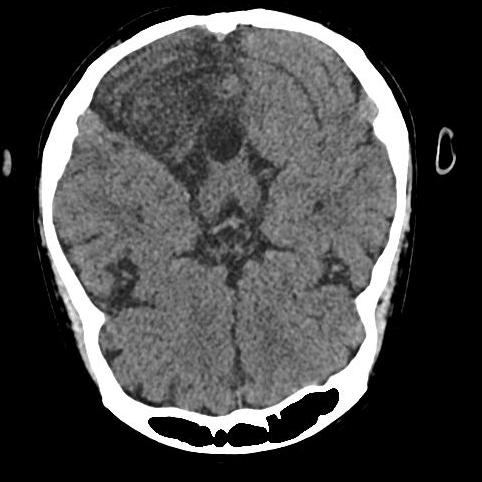Cancer: (192, 113, 262, 184)
